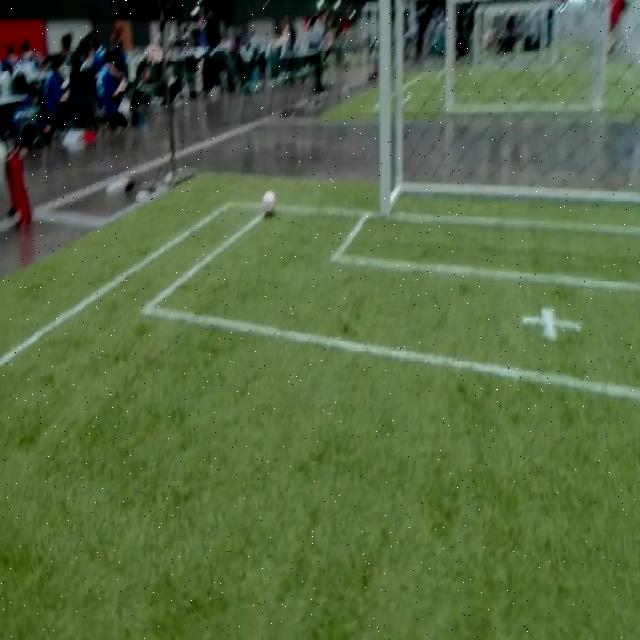ball: (262, 189, 276, 215)
goalpost: (375, 173, 395, 223)
